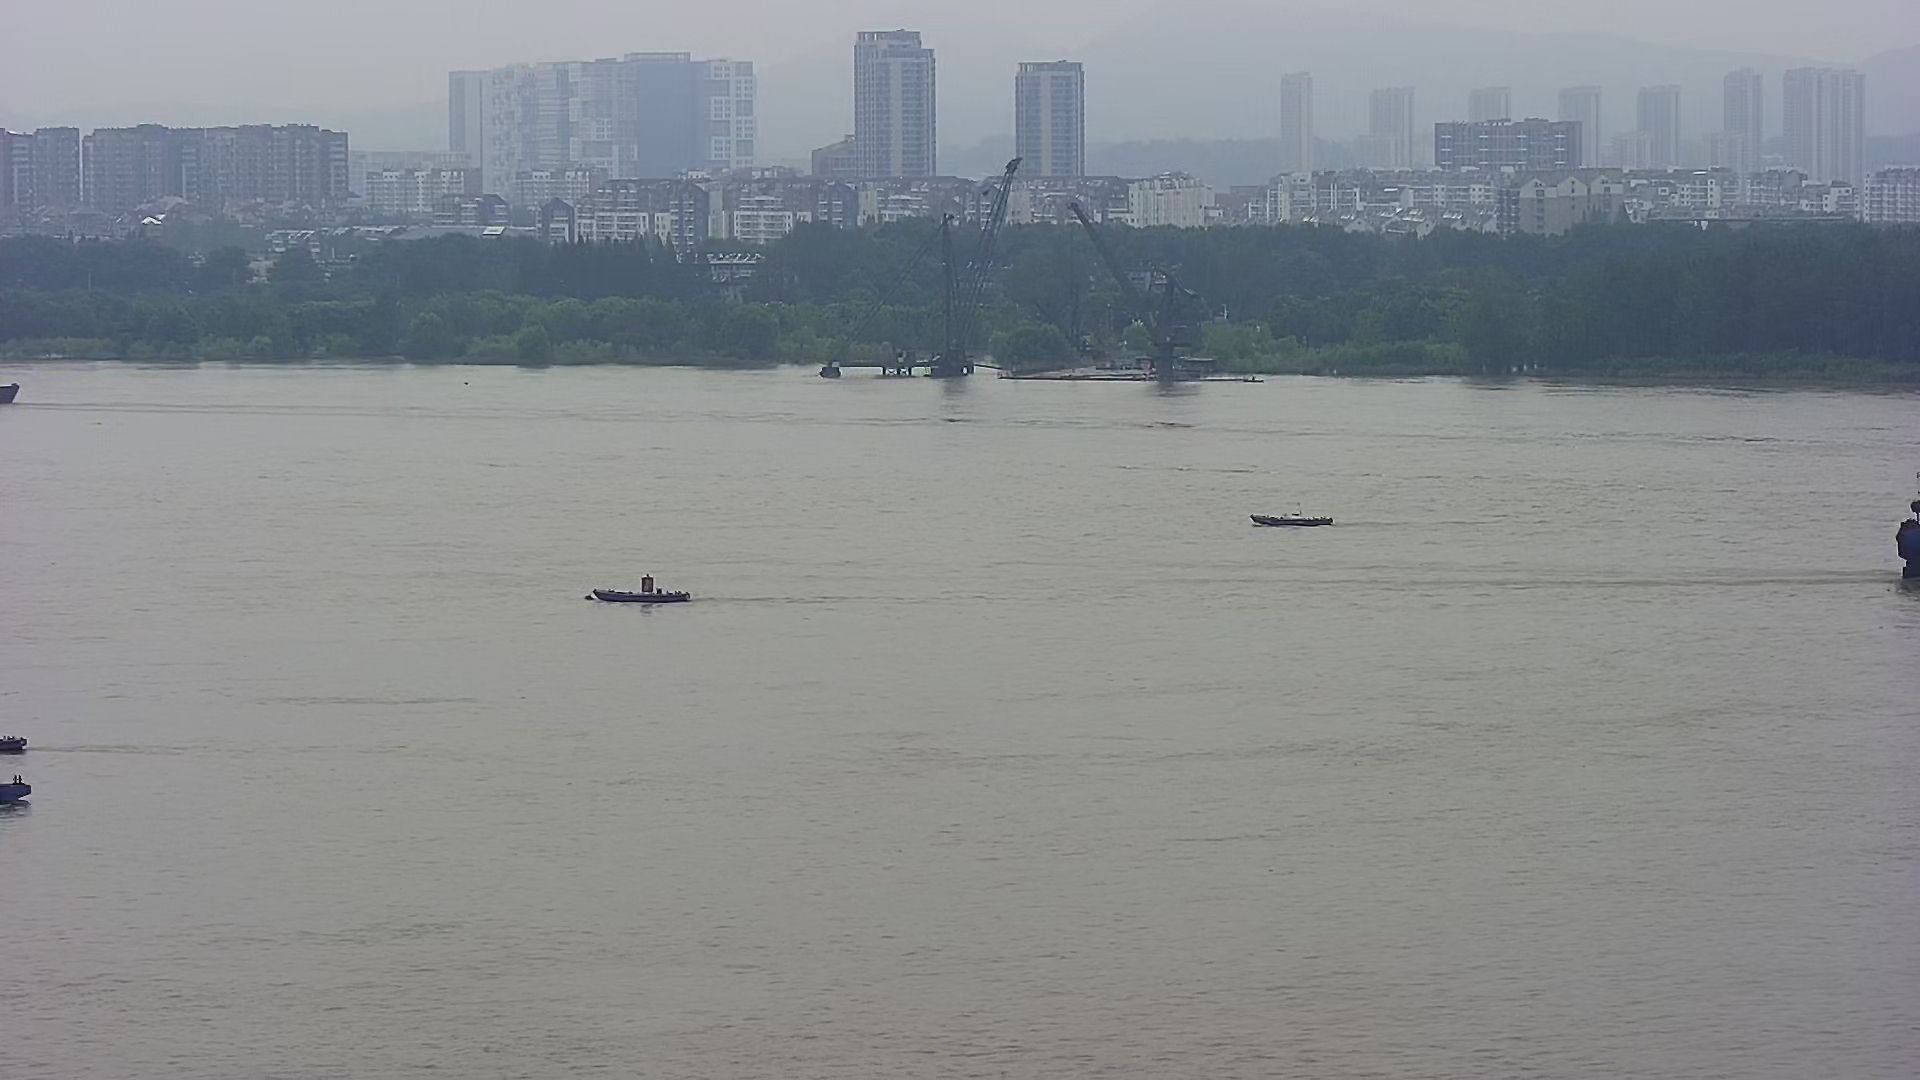boat: (589, 576, 694, 600), (1253, 498, 1335, 527), (1, 773, 32, 811), (1, 729, 32, 758)
harbor: (812, 332, 1265, 386)
ship: (1891, 465, 1920, 585)
